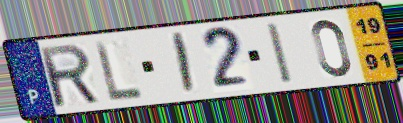0: (310, 17, 353, 79)
2: (199, 24, 259, 95)
I: (264, 20, 297, 87), (171, 30, 197, 97)
L: (91, 39, 146, 104)
R: (36, 42, 103, 110)
